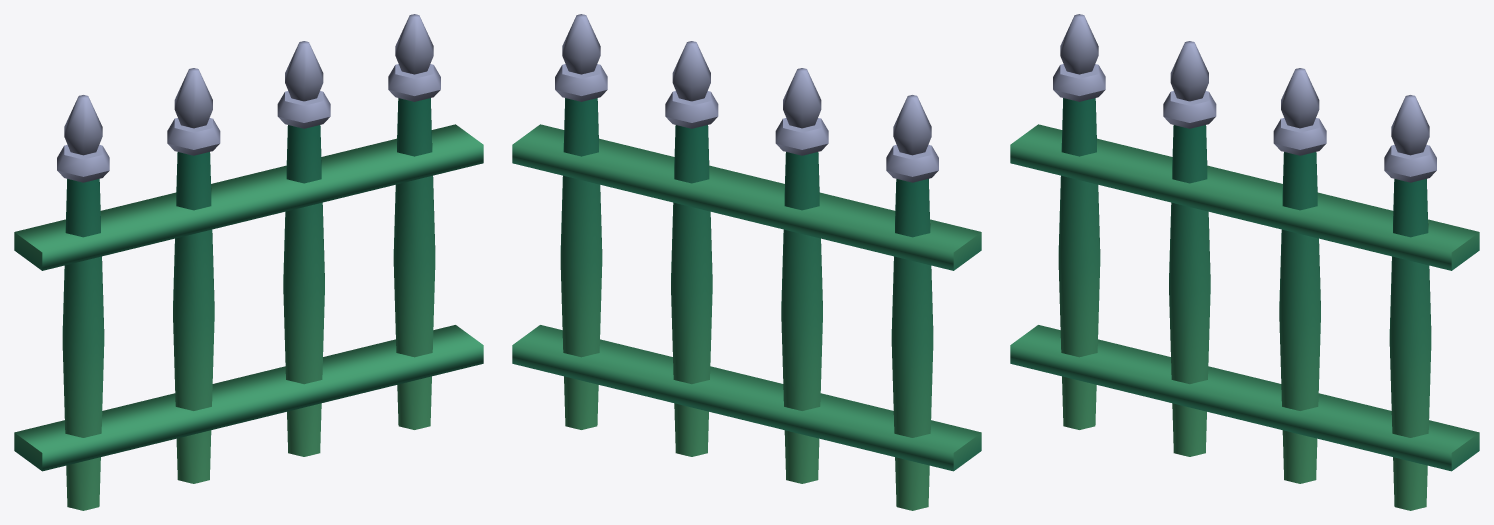
The model's file is K_iron-fence.glb.
3 views of the same model, side by side, from view 1: azimuth 30°, elevation 25°; view 2: azimuth 150°, elevation 25°; view 3: azimuth 330°, elevation 25° (orthographic).
Visible parts, largest first — view 1: iron-fence; view 2: iron-fence; view 3: iron-fence.
Part boxes in pixels (x1,y1,x2,y2): iron-fence: (14, 14, 483, 510); iron-fence: (512, 14, 981, 510); iron-fence: (1010, 14, 1479, 510).
Size of the model in its own units: 1 by 0.8789 by 0.11.
